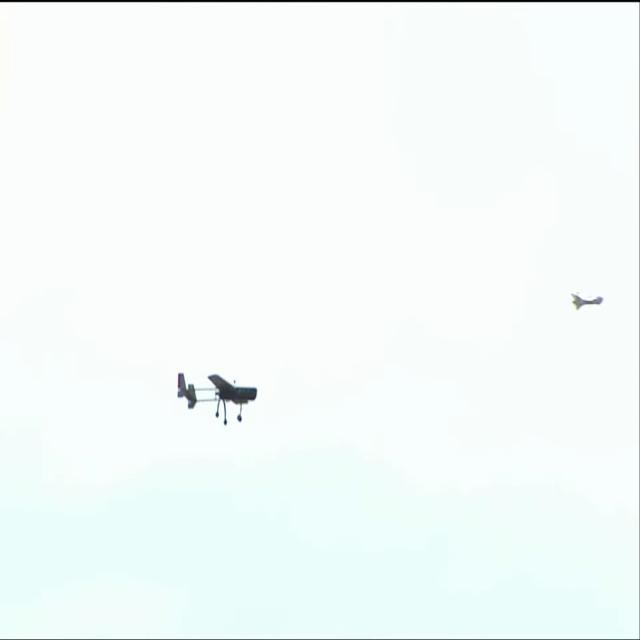iha: (209, 370, 226, 428)
